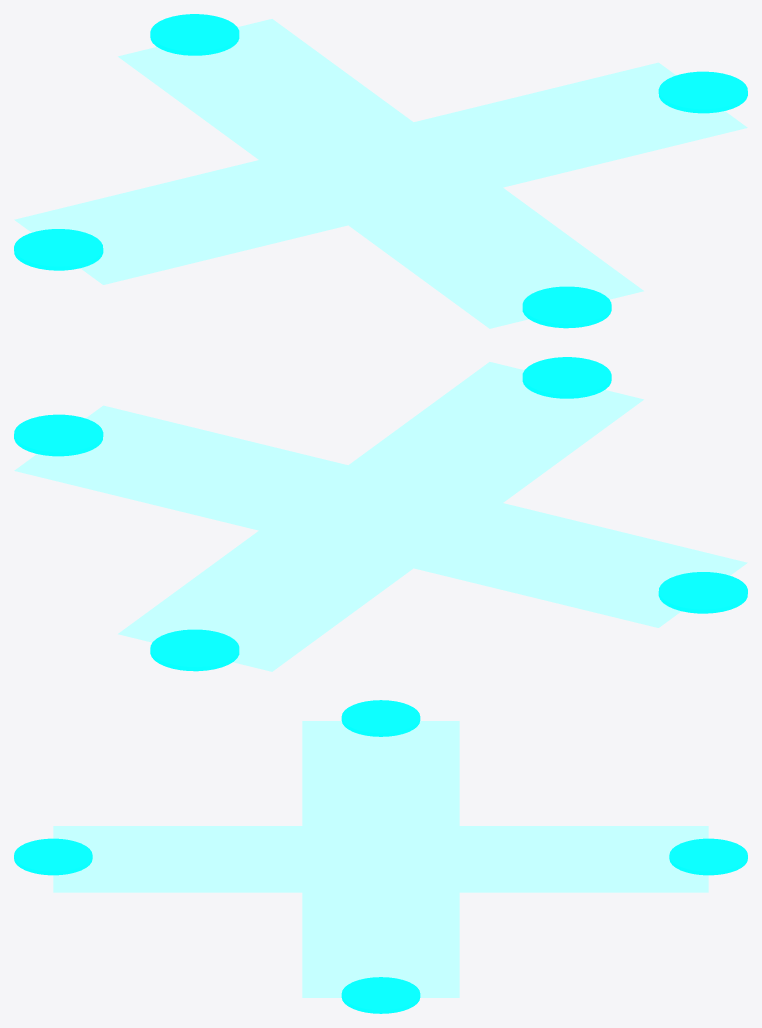
File: cross_active.glb
3 views of the same model, one above another, from view 1: azimuth 30°, elevation 25°; view 2: azimuth 150°, elevation 25°; view 3: azimuth 270°, elevation 25° (orthographic). The views are drawn at different scales.
Visible parts, largest first — view 1: Cross_Trace, Via_Top, Via_Bottom, Via_Right, Via_Left; view 2: Cross_Trace, Via_Bottom, Via_Top, Via_Right, Via_Left; view 3: Cross_Trace, Via_Bottom, Via_Top, Via_Left, Via_Right.
Part boxes in pixels (<box>): Cross_Trace: <box>14,19,747,328</box>; Via_Top: <box>150,14,239,55</box>; Via_Bottom: <box>522,286,611,328</box>; Via_Right: <box>658,71,747,113</box>; Via_Left: <box>14,229,103,270</box>; Cross_Trace: <box>14,362,747,671</box>; Via_Bottom: <box>522,357,611,398</box>; Via_Top: <box>150,629,239,671</box>; Via_Right: <box>14,414,103,456</box>; Via_Left: <box>658,572,747,613</box>; Cross_Trace: <box>53,721,708,997</box>; Via_Bottom: <box>14,838,92,875</box>; Via_Top: <box>669,838,747,875</box>; Via_Left: <box>341,700,420,736</box>; Via_Right: <box>341,977,420,1013</box>.
Bounding box in the file's own units: 1.12 × 0.007 × 1.12.
